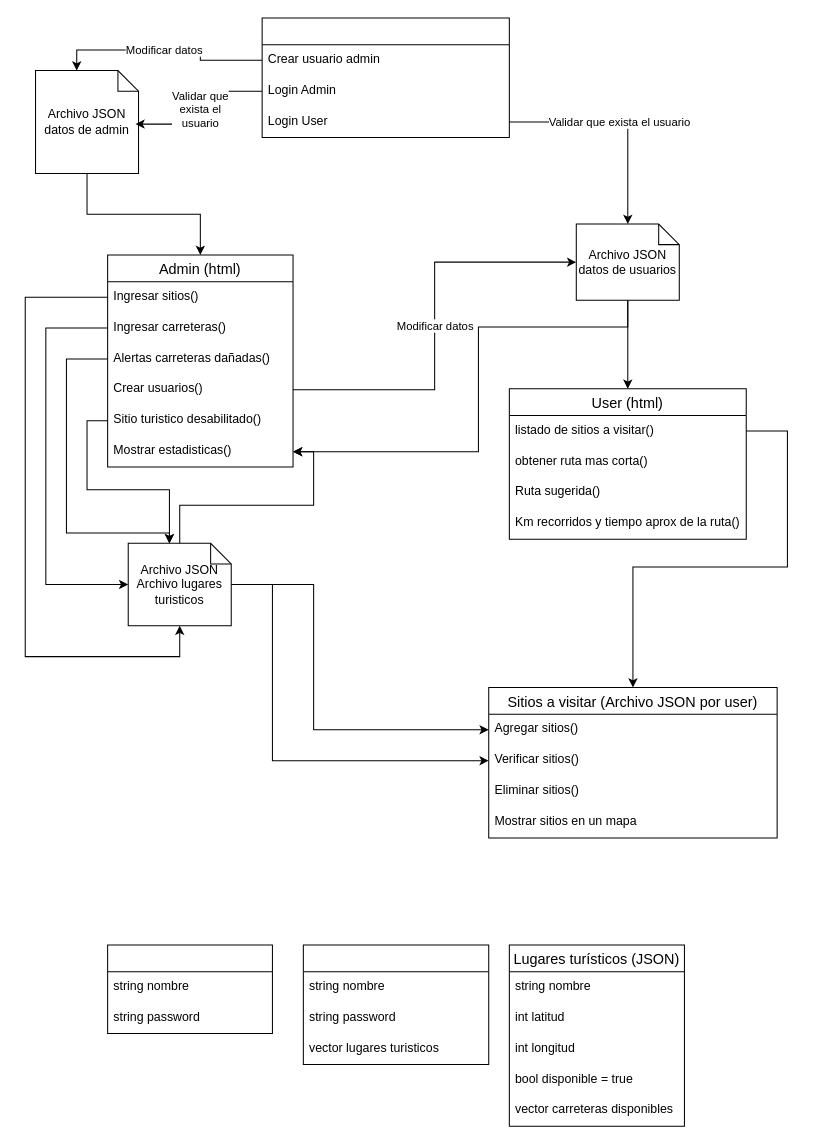
This 814x1147 diagram has some shape labels left out. Here are the shapes that lost their labels. From the top down, the box of each, then its label:
(261, 17, 509, 138): Pagina principal (Html)
(107, 944, 272, 1034): Datos admin (JSON)
(302, 944, 489, 1065): Datos de usuario (JSON)
